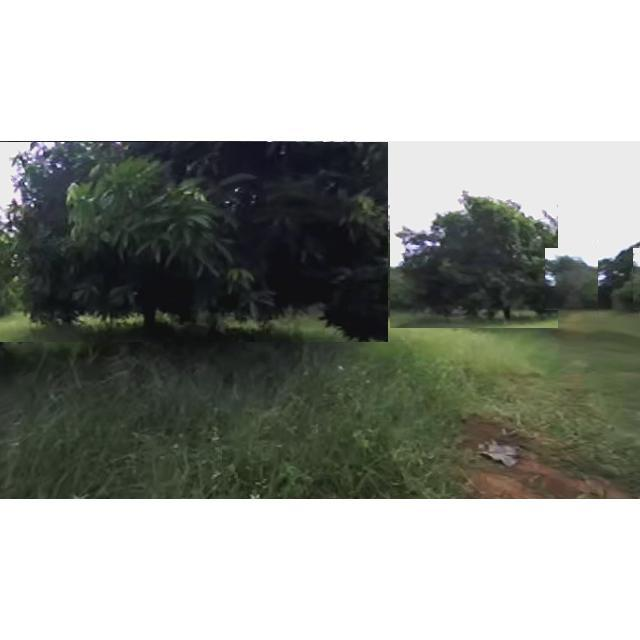direk: (0, 142, 388, 342), (390, 176, 558, 328), (545, 248, 605, 310), (598, 237, 640, 317)
